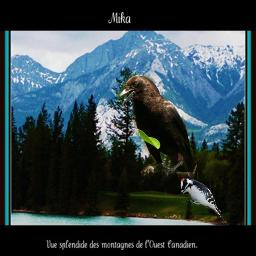Crow: (117, 73, 197, 181)
Woodpecker: (178, 177, 224, 221)
